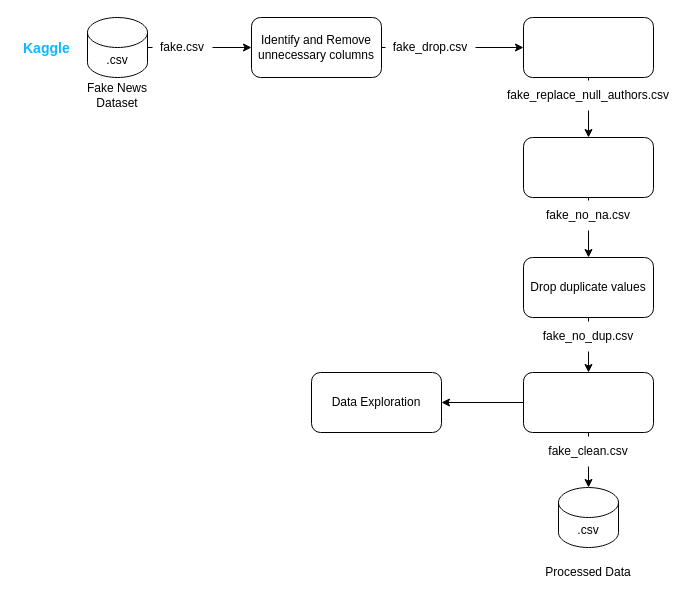
Some shapes in this 686 by 605 pixel diagram are drawn without their labels. Here are the shapes that lost their labels. From the top down, the centre of each, then its label:
At point 588,47: "Replace null authors with Anonymous".
At point 588,167: "Remove rows with null values".
At point 588,402: "Format dates".
